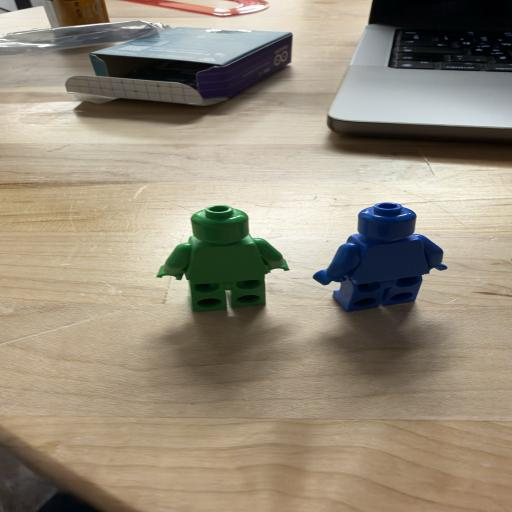blue_minifig: (312, 202, 448, 312)
green_minifig: (156, 204, 290, 312)
